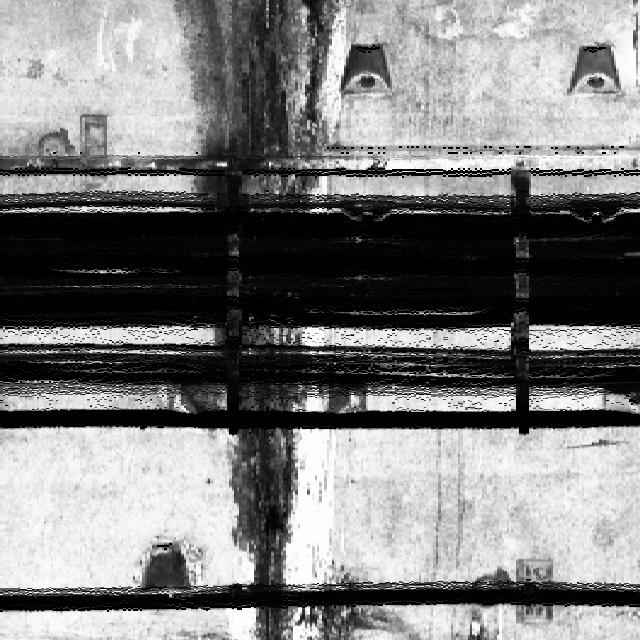leakage: (168, 0, 340, 205), (203, 322, 313, 639)
